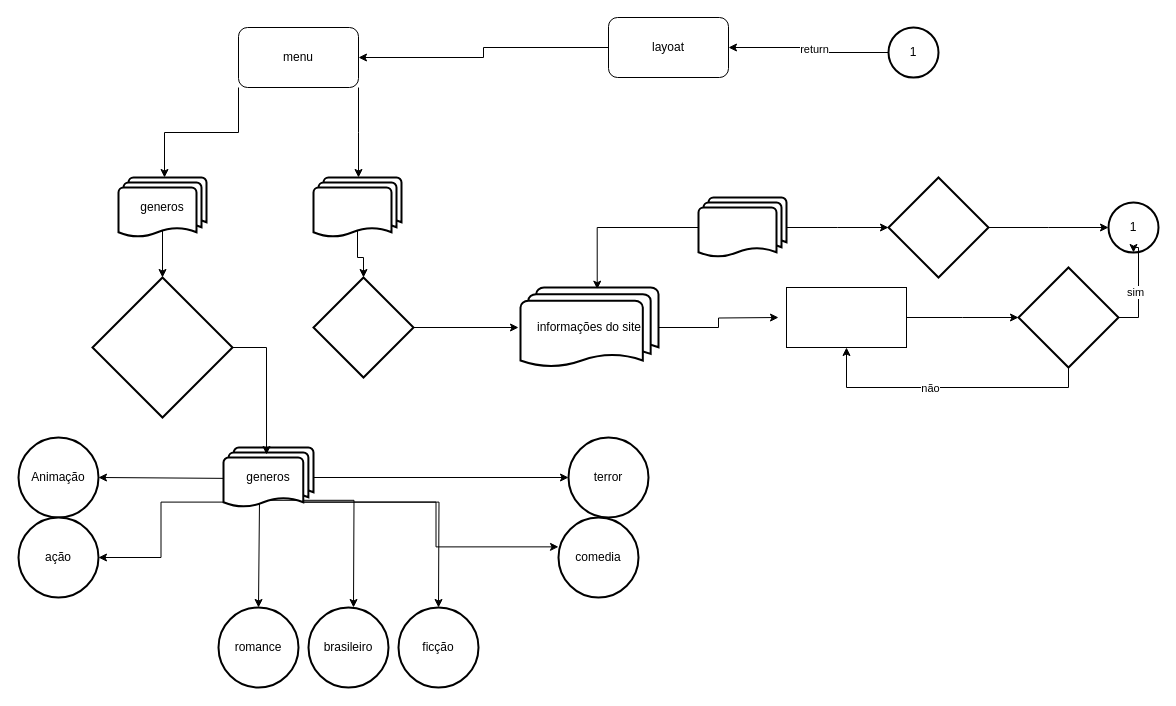
This 1176x706 diagram has some shape labels left out. Each missing label, with the centre of its shape:
perguntas sobre o site: point 846,317
retornar pro principal: point 742,227
return pressionado?: point 1068,317
se for pressionado: point 363,327
Se o botão "genero" para botões: point 162,347
se pressionado: point 938,227
sobre nós: point 357,207
